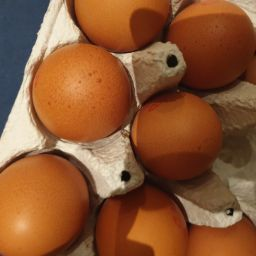Eggs: (31, 50, 132, 143), (3, 153, 88, 256), (179, 3, 256, 87), (139, 105, 224, 170), (112, 187, 187, 256), (75, 1, 173, 52), (189, 227, 256, 256)
